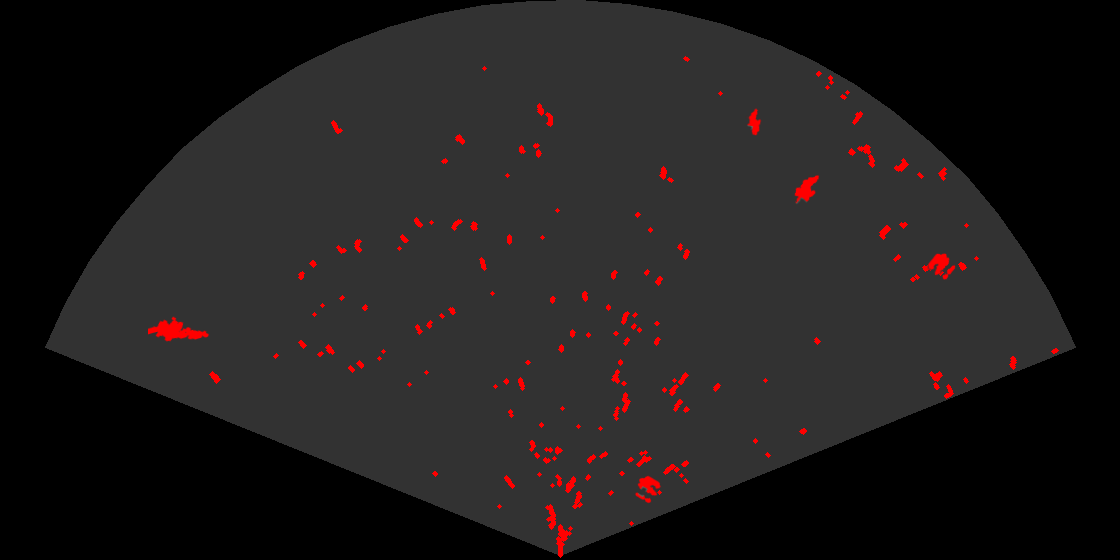AUV: (793, 173, 821, 205), (745, 107, 763, 137)
ball: (634, 474, 663, 505), (927, 252, 957, 281)
frogman: (148, 315, 210, 343)
